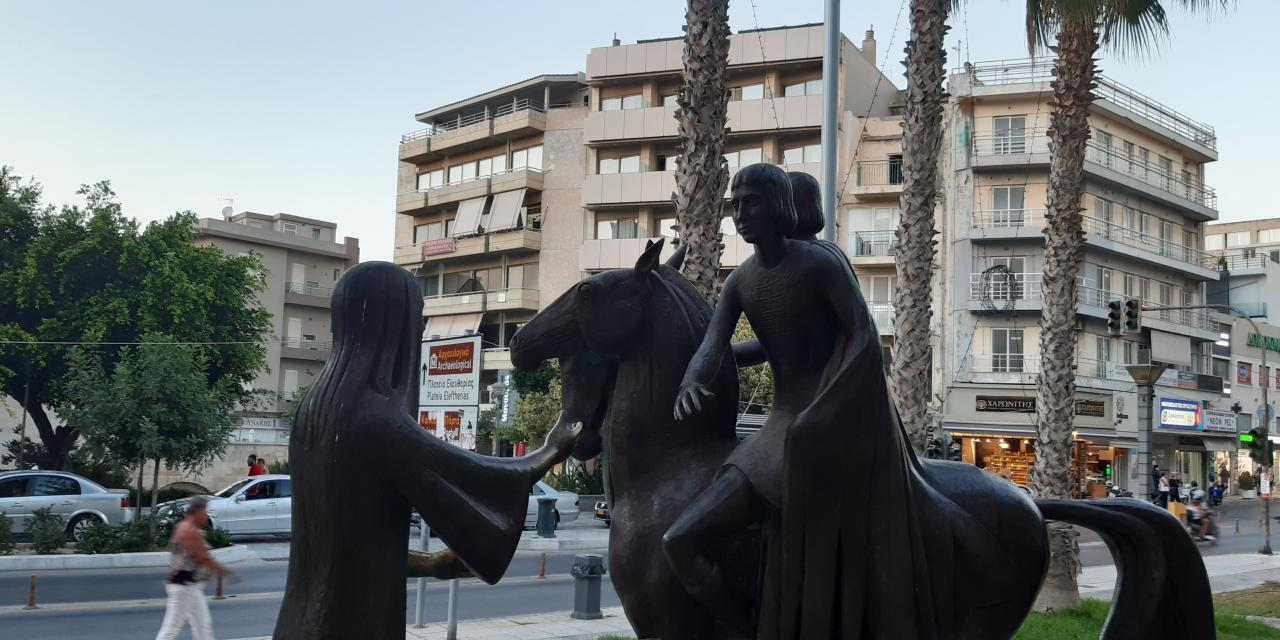Aretousa: (275, 165, 1218, 640)
